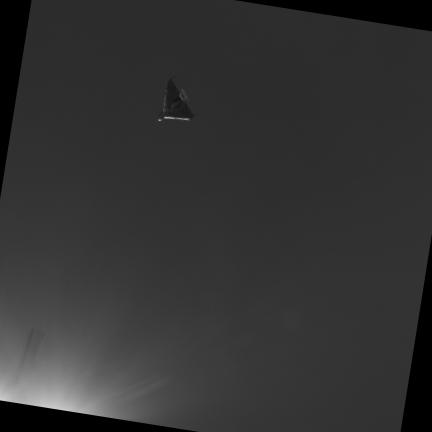Shahed: (159, 78, 197, 120)
